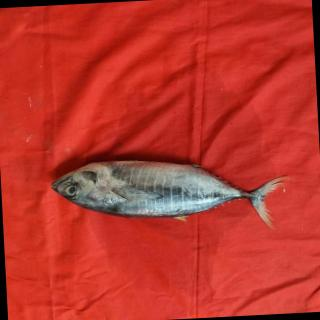Ikan: (46, 132, 302, 247)
